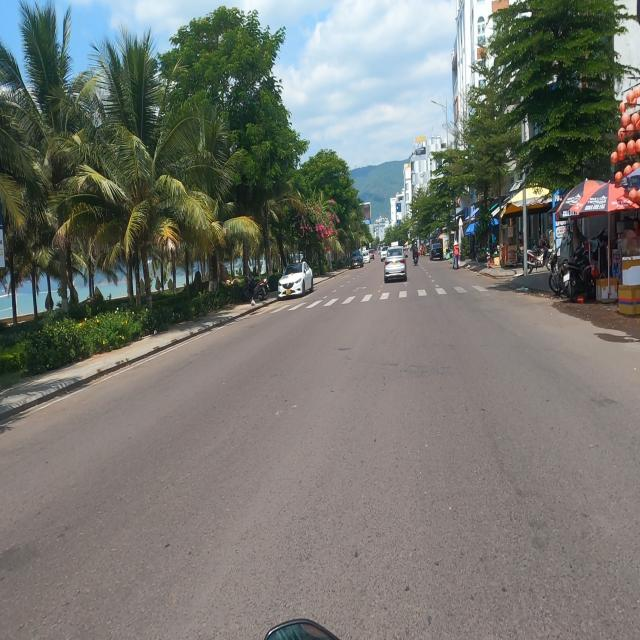walk-crossing: (280, 284, 488, 308)
